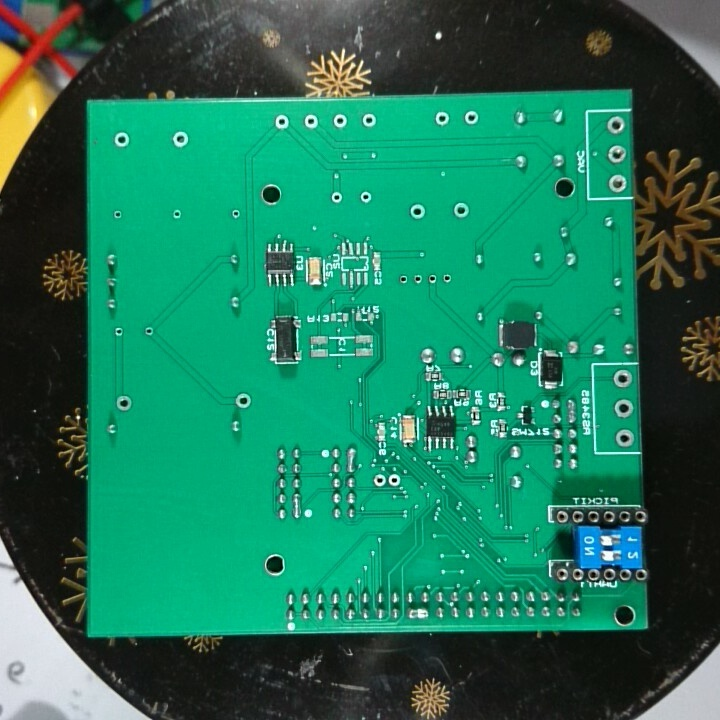F: (603, 141, 630, 167), (611, 396, 637, 420), (611, 367, 636, 391), (612, 425, 637, 448), (604, 113, 627, 137), (168, 128, 192, 150), (110, 128, 134, 150), (607, 170, 629, 193), (114, 391, 136, 414), (232, 390, 254, 412), (406, 202, 429, 223), (271, 111, 292, 131), (451, 200, 472, 220), (462, 107, 481, 129), (301, 111, 320, 131), (359, 111, 379, 130), (386, 470, 404, 491), (432, 109, 450, 127), (370, 471, 387, 490), (332, 111, 349, 129), (168, 205, 186, 221), (423, 269, 439, 287), (111, 207, 128, 222), (357, 189, 374, 204), (111, 324, 127, 339), (141, 324, 156, 339), (439, 272, 456, 285), (329, 189, 343, 204), (397, 272, 411, 287), (228, 206, 241, 220), (411, 272, 423, 286)
P: (288, 490, 306, 521), (404, 605, 432, 624), (564, 394, 580, 425), (344, 445, 359, 475)
